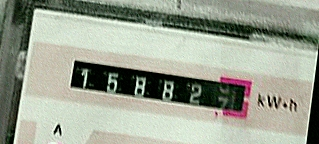1: (78, 63, 94, 86)
2: (187, 79, 206, 105)
5: (105, 66, 122, 93)
7: (217, 90, 231, 108)
8: (160, 75, 177, 101), (133, 72, 149, 96)
screen: (60, 47, 263, 127)
